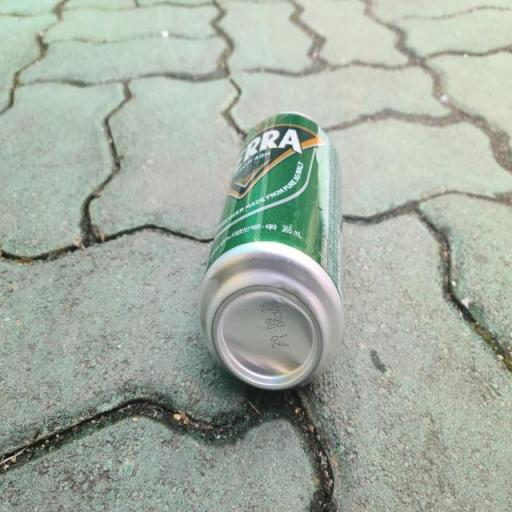metal: (178, 108, 380, 418)
